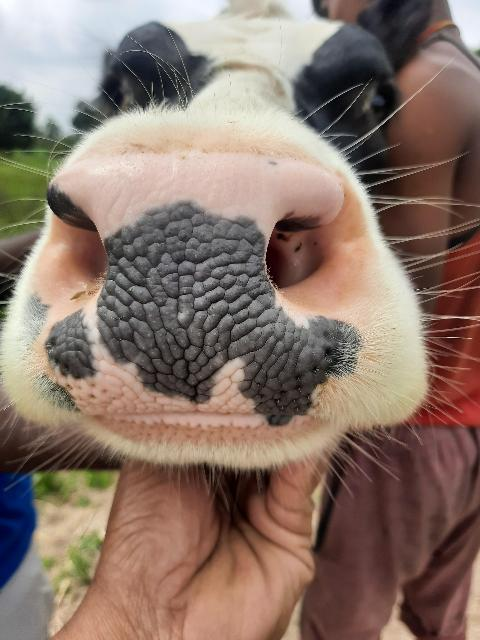Muzzle: (71, 166, 308, 422)
